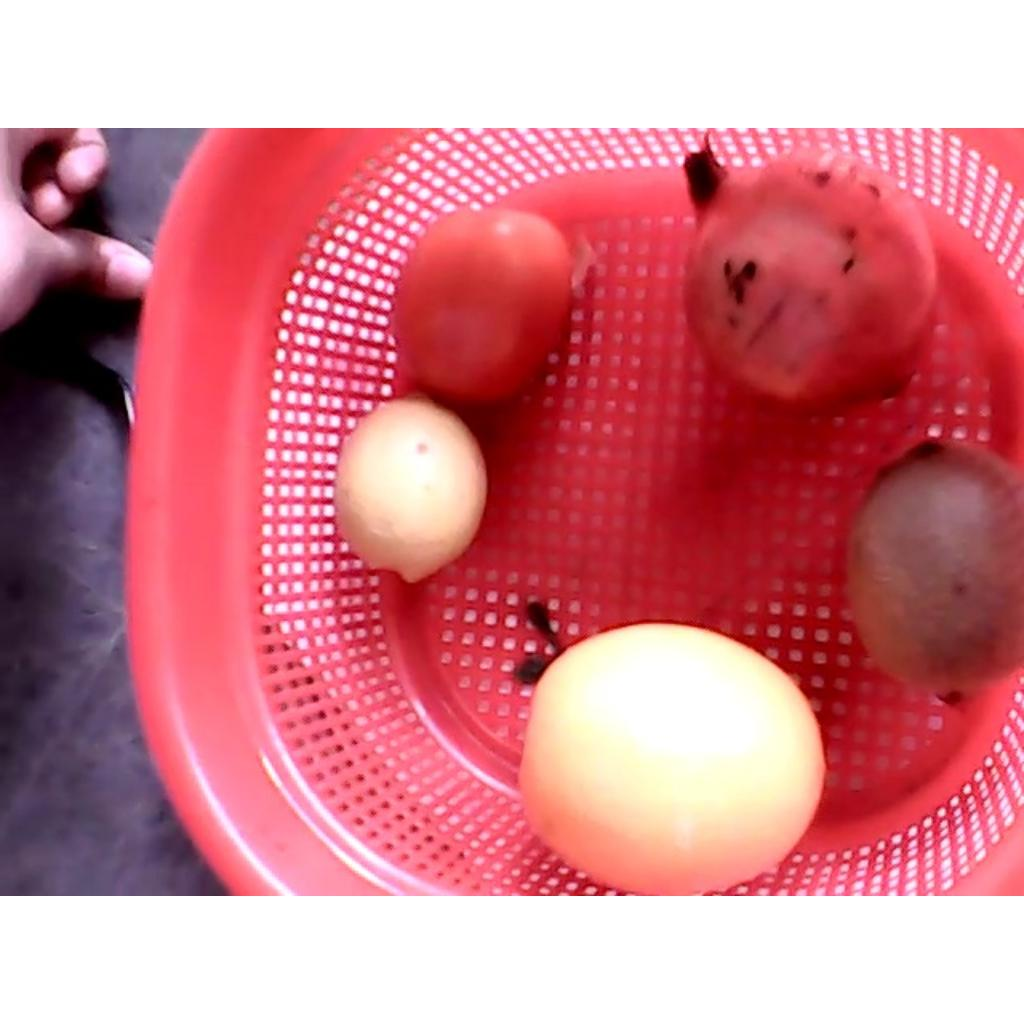kiwi: (852, 434, 1022, 703)
lemon: (331, 400, 489, 585)
orange: (519, 629, 825, 891)
pomegranate: (679, 141, 940, 411)
tomato: (388, 207, 573, 403)
